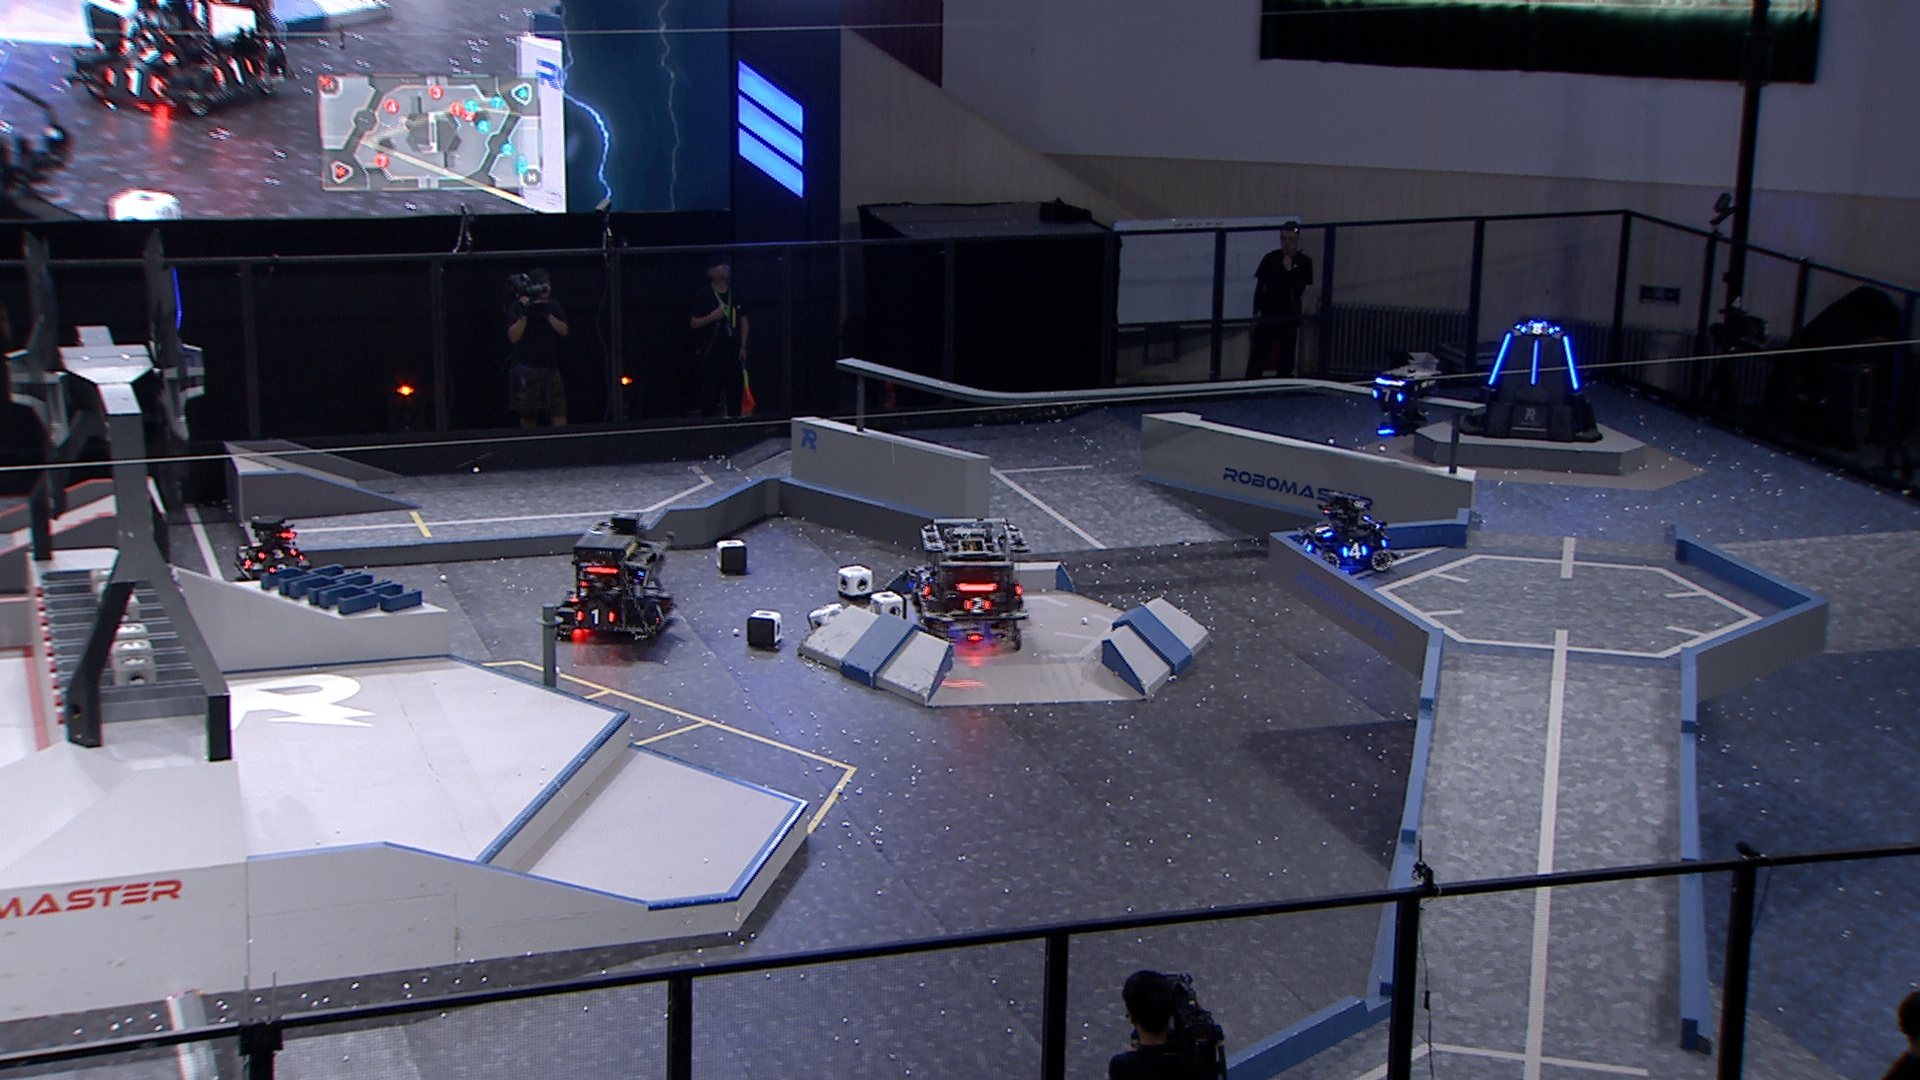armor: (1486, 332, 1513, 389), (1560, 334, 1581, 392), (571, 608, 617, 626), (1370, 386, 1404, 406), (961, 595, 993, 616), (1338, 541, 1370, 560), (1518, 322, 1556, 338), (1528, 342, 1542, 386), (255, 547, 299, 560), (1309, 522, 1337, 541), (1294, 535, 1316, 556), (915, 579, 935, 603), (651, 599, 669, 624)
base: (1452, 318, 1604, 444)
car: (905, 517, 1031, 647), (555, 516, 678, 647), (1290, 489, 1396, 576), (228, 516, 310, 585)
ignore: (61, 0, 294, 113)
watcher: (1367, 365, 1436, 438)
